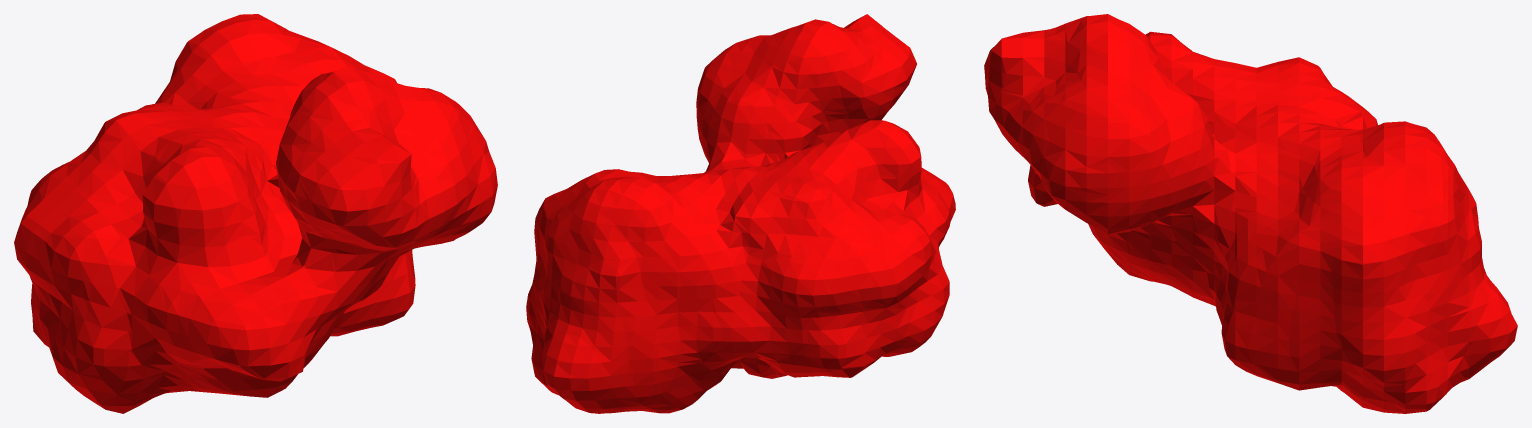
The model's file is cra_coarse.dae.
The picture shows the model from 3 angles, left to right: view 1: azimuth 30°, elevation 25°; view 2: azimuth 150°, elevation 25°; view 3: azimuth 270°, elevation 25°; orthographic projection. The views are drawn at different scales.
Parts seen in each view (by area): view 1: cra; view 2: cra; view 3: cra.
Part boxes in pixels (box(x1,y1,x2,y2)): cra: box(14, 14, 497, 413); cra: box(526, 14, 955, 413); cra: box(984, 14, 1517, 413).
Size of the model in its own units: 59.7 by 52.82 by 74.16.
